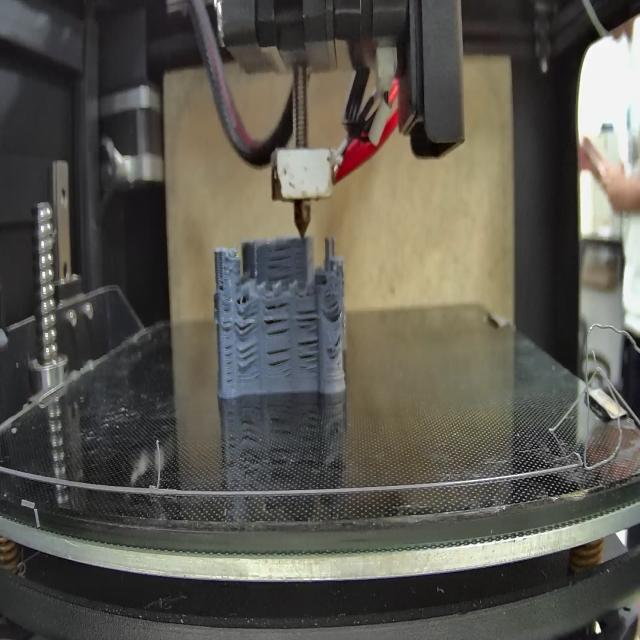cracks: (266, 244, 294, 280), (222, 304, 234, 386), (266, 300, 290, 341), (297, 339, 321, 372), (235, 342, 260, 371), (268, 346, 291, 375), (294, 304, 320, 329), (236, 306, 258, 335), (328, 296, 341, 322), (331, 336, 344, 348), (218, 277, 226, 293)
